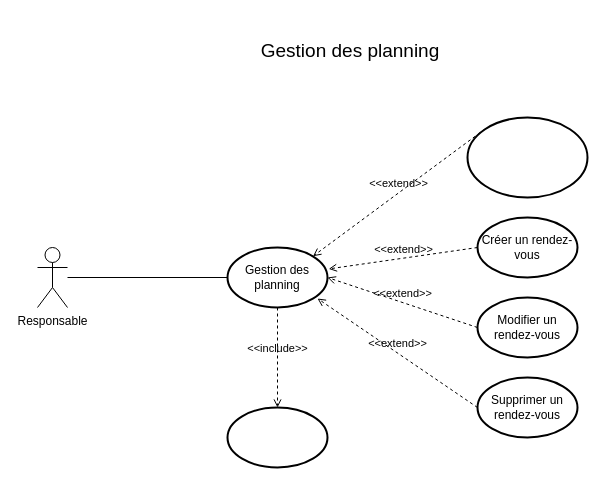
Image size: 605x485. Some labels were removed from this diagram. The shapes that lost their labels are listed below. From the top down, each one's centre as x and y in pixels, then its label:
At (x=527, y=157): "Affecter la tournée à un vendeur".
At (x=277, y=437): "Authentification".
